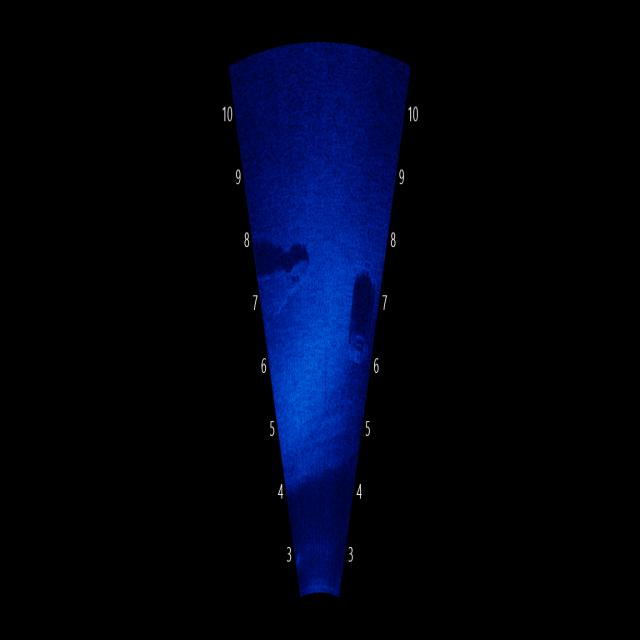circle: (346, 317, 372, 379)
